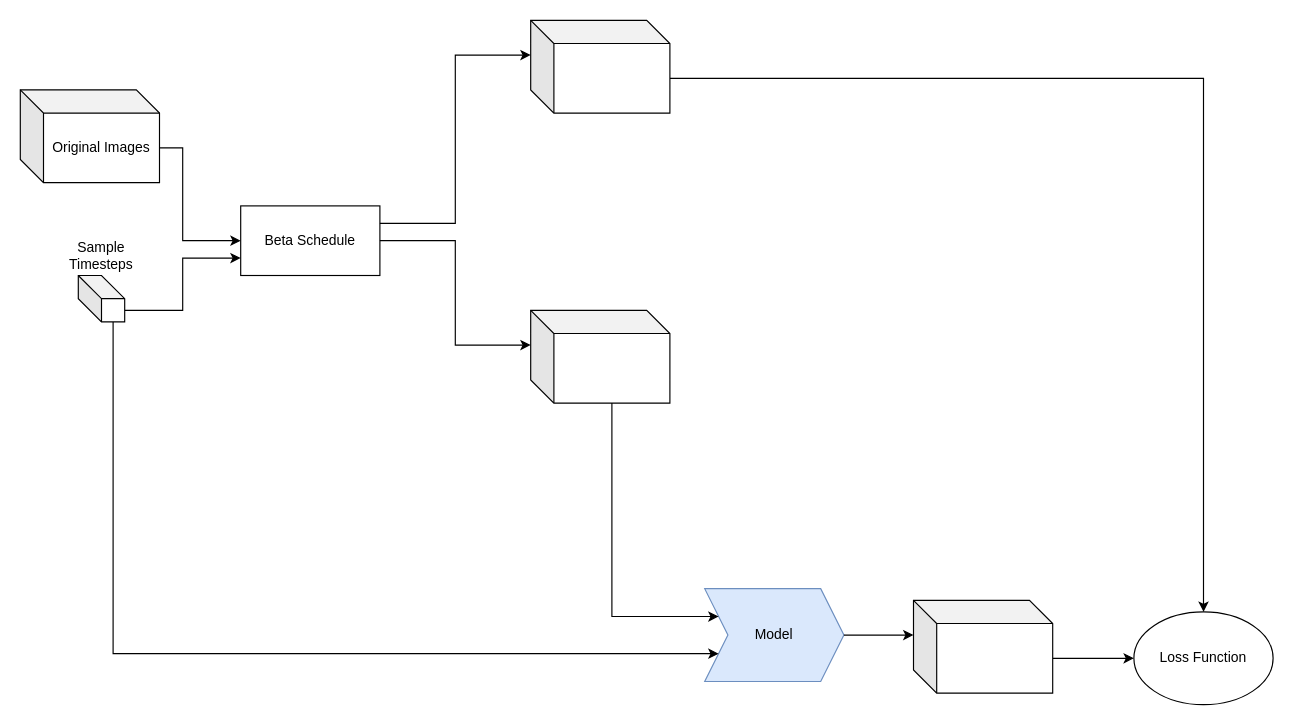
Image size: 1293x725. Some labels were removed from this diagram. The centre of each missing label's shape, as x and y in pixels:
Noisy Images: the point at 600,356
Original Noises: the point at 600,66
Predicted Noises: the point at 982,646
